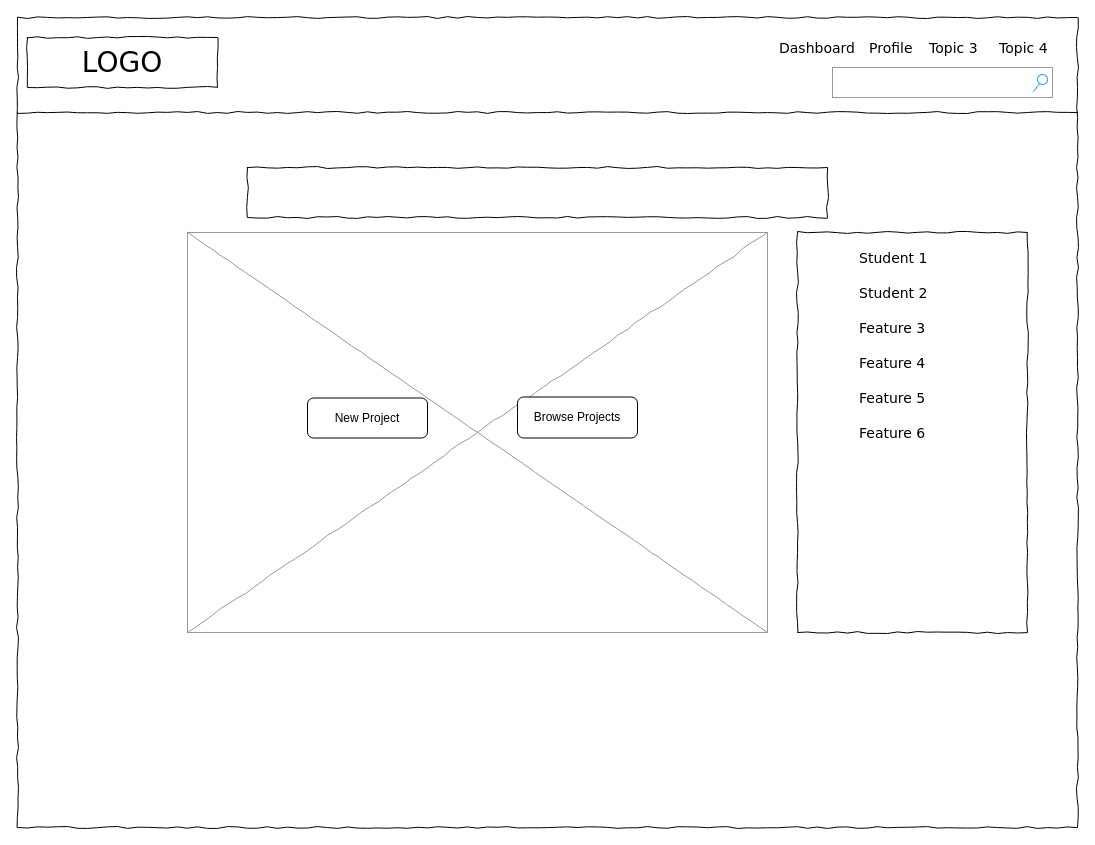
This 1095x845 diagram has some shape labels left out. Here are the shapes that lost their labels. From the top down, the box of each, then its label:
(832, 66, 1052, 98): Search
(246, 166, 828, 218): Some sort of welcome message, description
